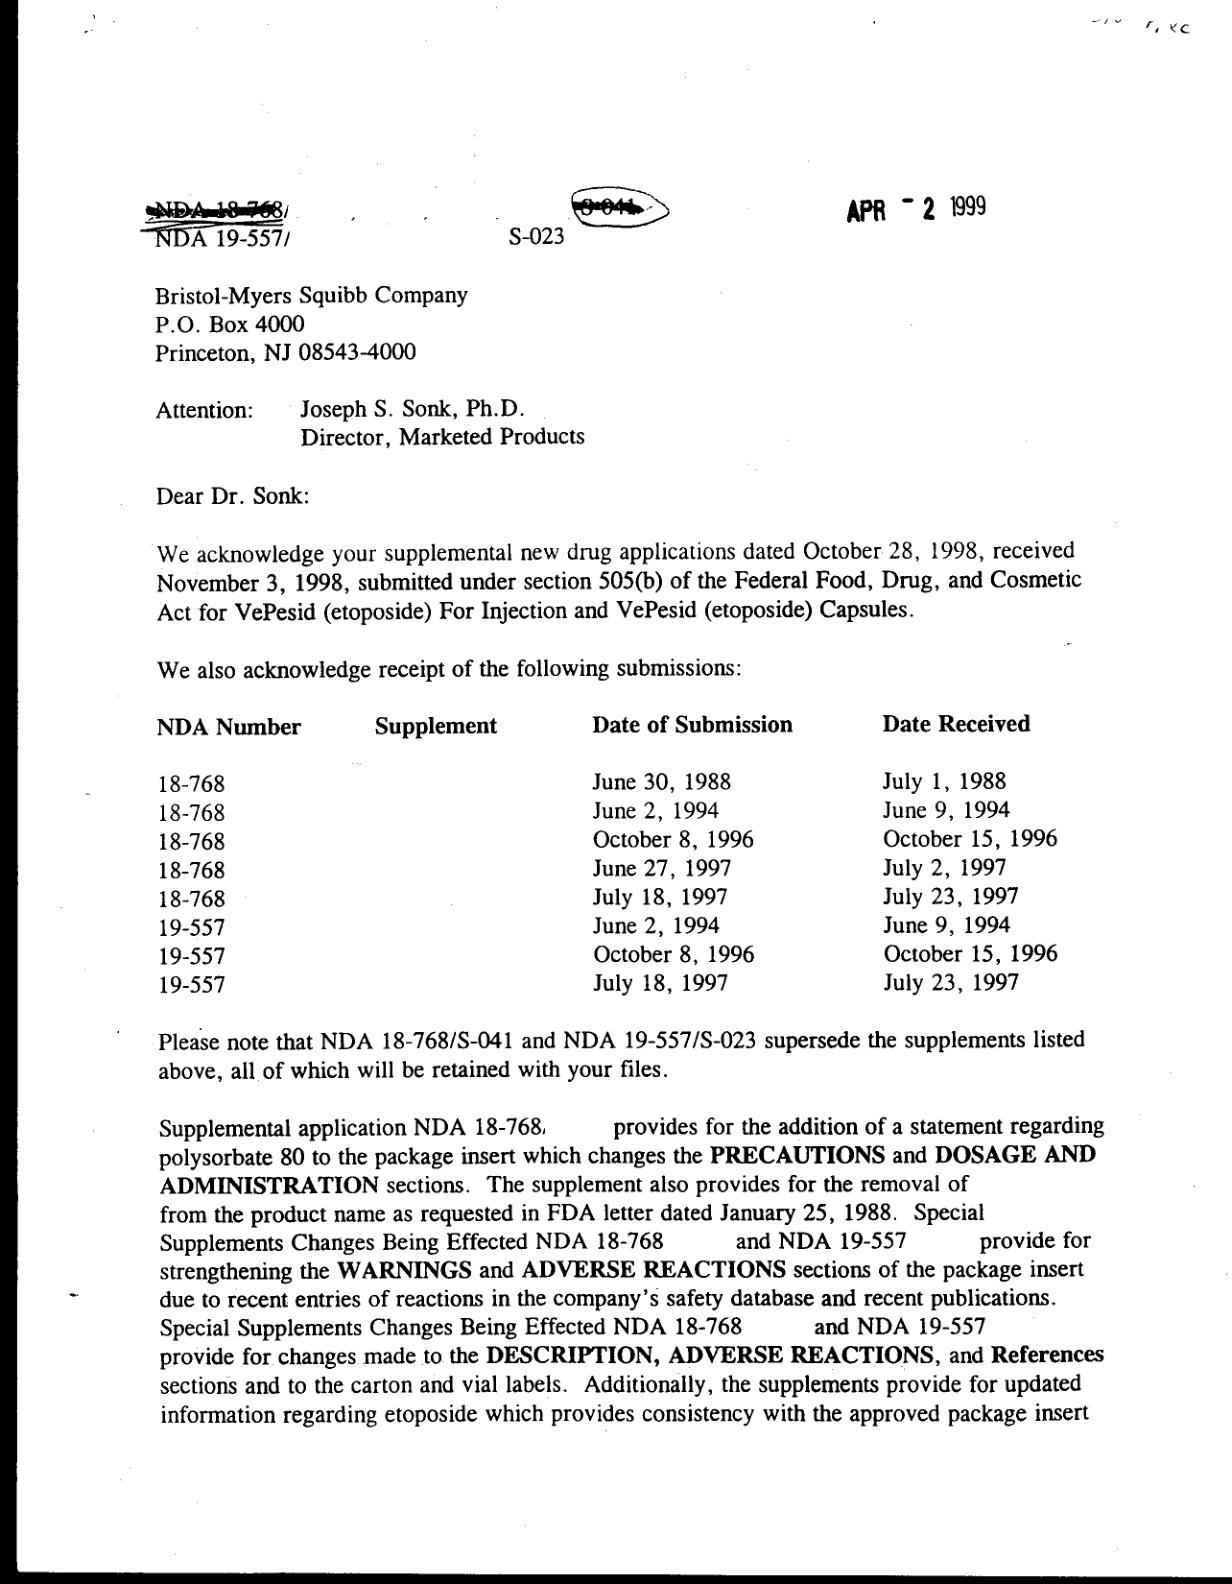nolines: (156, 711, 1061, 998)
